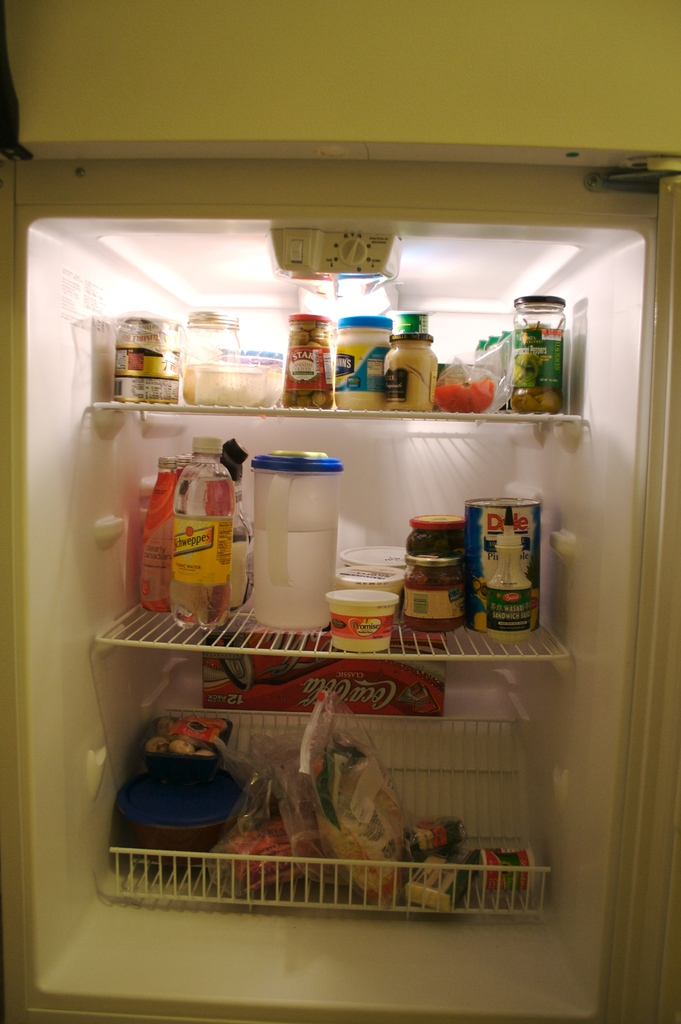refrigerator door: (26, 4, 671, 137)
